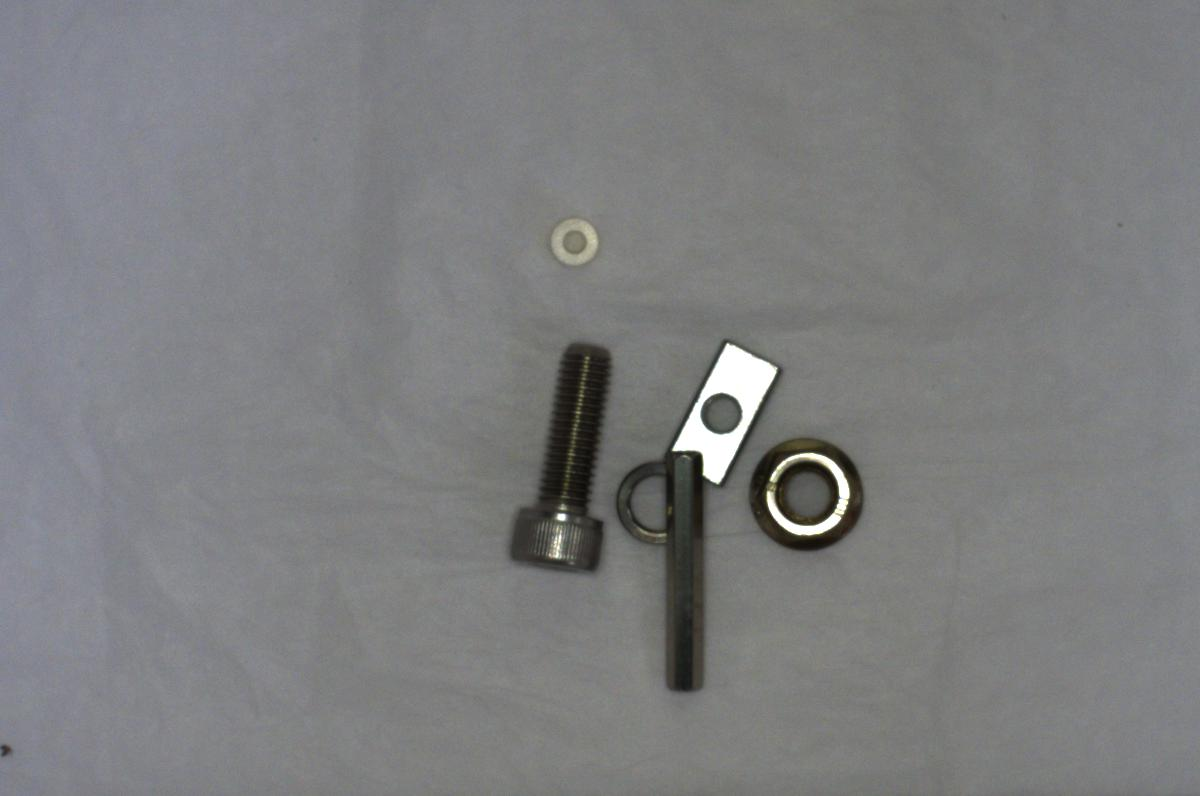Double hexagonal column: (656, 448, 715, 700)
Flange nut: (744, 435, 878, 558)
Hexagon screw: (497, 327, 616, 571)
Plastic cushion pillar: (543, 212, 608, 269)
Rectangular nut: (676, 342, 776, 492)
Spring washer: (612, 459, 701, 548)
